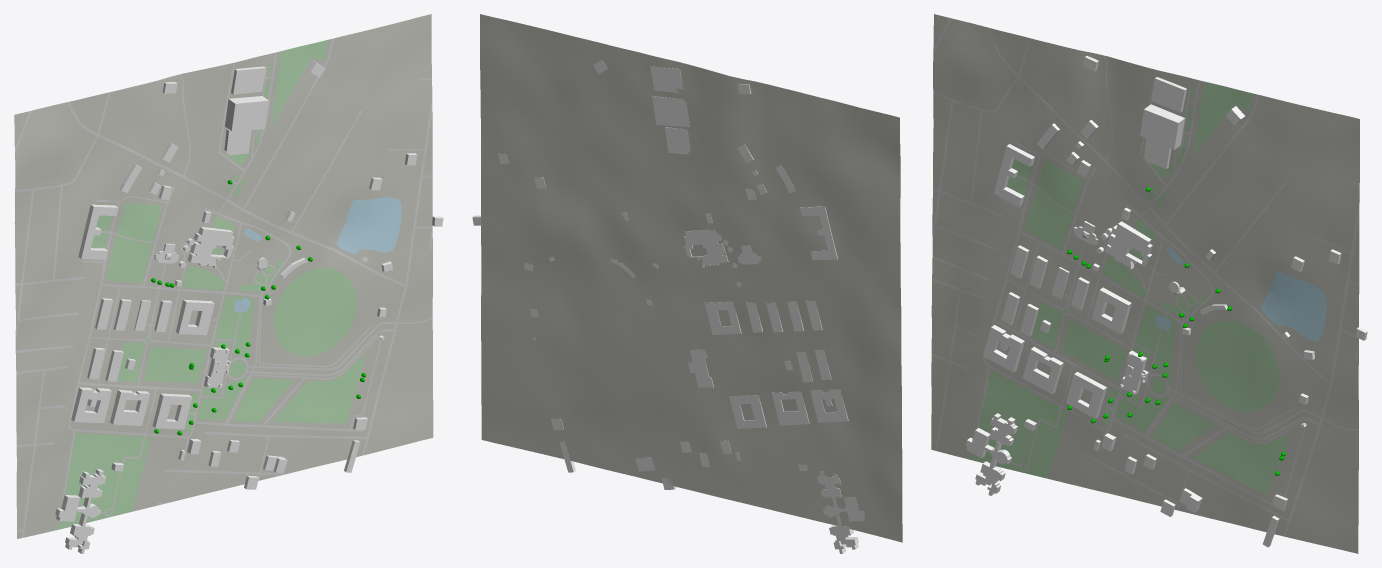
File: topoexport_3D_modeling.glb
3 views of the same model, side by side, from view 1: azimuth 30°, elevation 25°; view 2: azimuth 150°, elevation 25°; view 3: azimuth 330°, elevation 25° (orthographic). The views are drawn at different scales.
Visible parts, largest first — view 1: TPX_Ground, TPX_GreenAreas, TPX_Buildings, TPX_RoadsOutlines, TPX_Waterways_1; view 2: TPX_Ground, TPX_Buildings; view 3: TPX_Ground, TPX_GreenAreas, TPX_Buildings, TPX_RoadsOutlines, TPX_Waterways_1.
Boxes of the visible parts, <box> form: TPX_Ground: <box>14,14,433,538</box>; TPX_GreenAreas: <box>57,39,365,529</box>; TPX_Buildings: <box>55,60,443,553</box>; TPX_RoadsOutlines: <box>15,38,432,537</box>; TPX_Waterways_1: <box>233,197,401,312</box>; TPX_Ground: <box>480,14,902,542</box>; TPX_Buildings: <box>472,60,864,553</box>; TPX_Ground: <box>931,14,1359,553</box>; TPX_GreenAreas: <box>970,81,1288,494</box>; TPX_Buildings: <box>965,56,1367,547</box>; TPX_RoadsOutlines: <box>931,18,1359,536</box>; TPX_Waterways_1: <box>1154,246,1326,341</box>.
Size of the model in its own units: 648 by 655 by 21.8.
